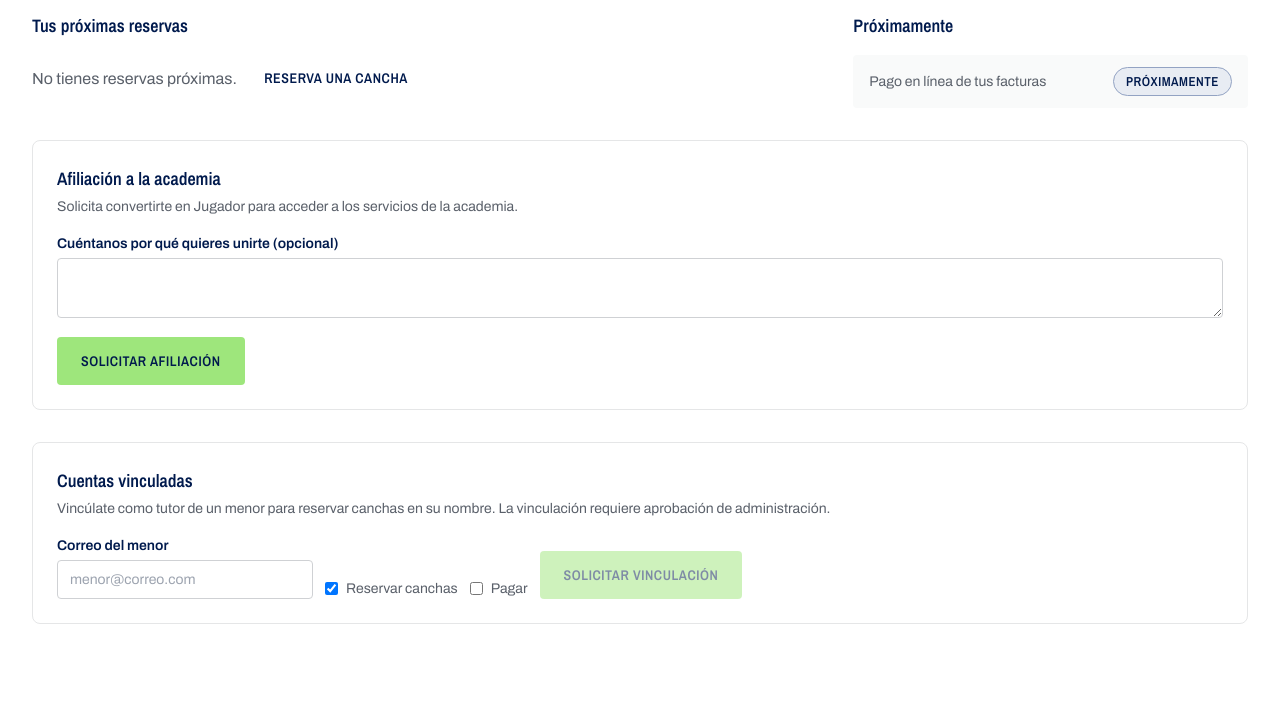
Test case: MyCtcjPage › can request a guardianship link and see it listed
(page scrolled)
Expected: the heading "Cuentas vinculadas" is shown, left=57, top=468, right=193, bottom=493
Step 1. Type "hijo@example.com" into the field labelled "Correo del menor" → (185, 580), box left=57, top=560, right=313, bottom=599
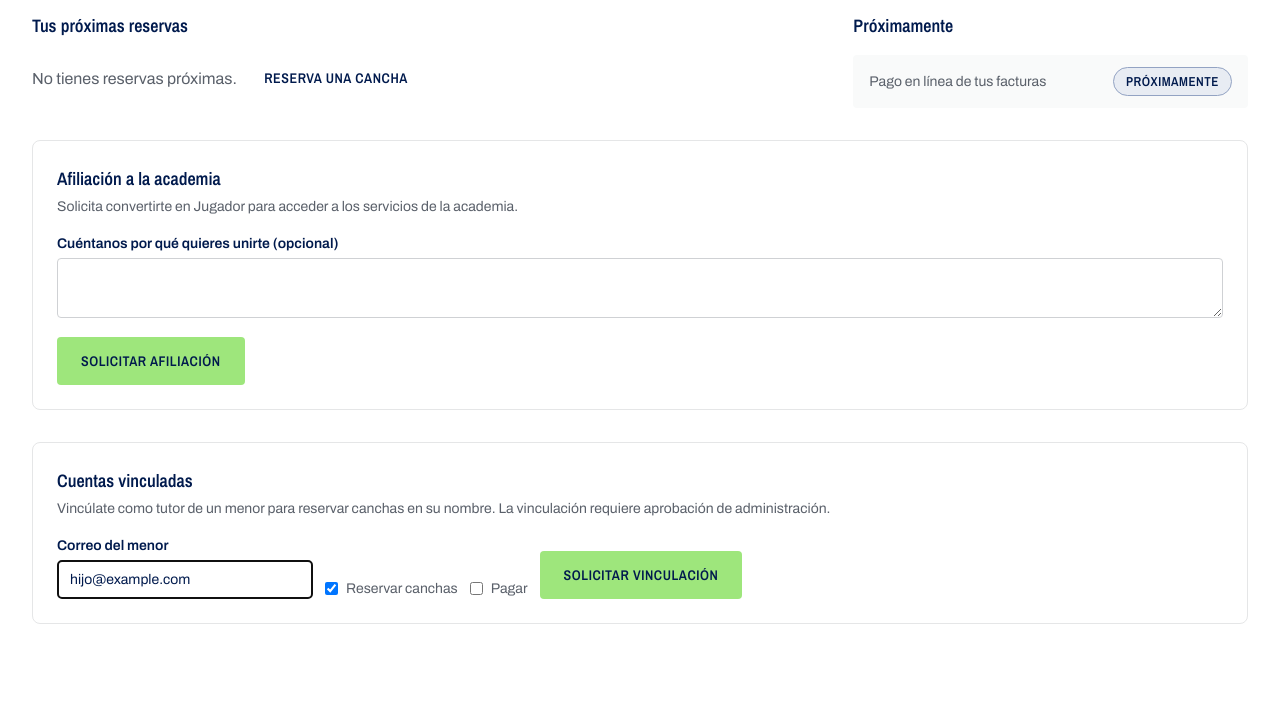
Step 2. Click the button "Solicitar vinculación" → (641, 575), box left=540, top=551, right=742, bottom=599
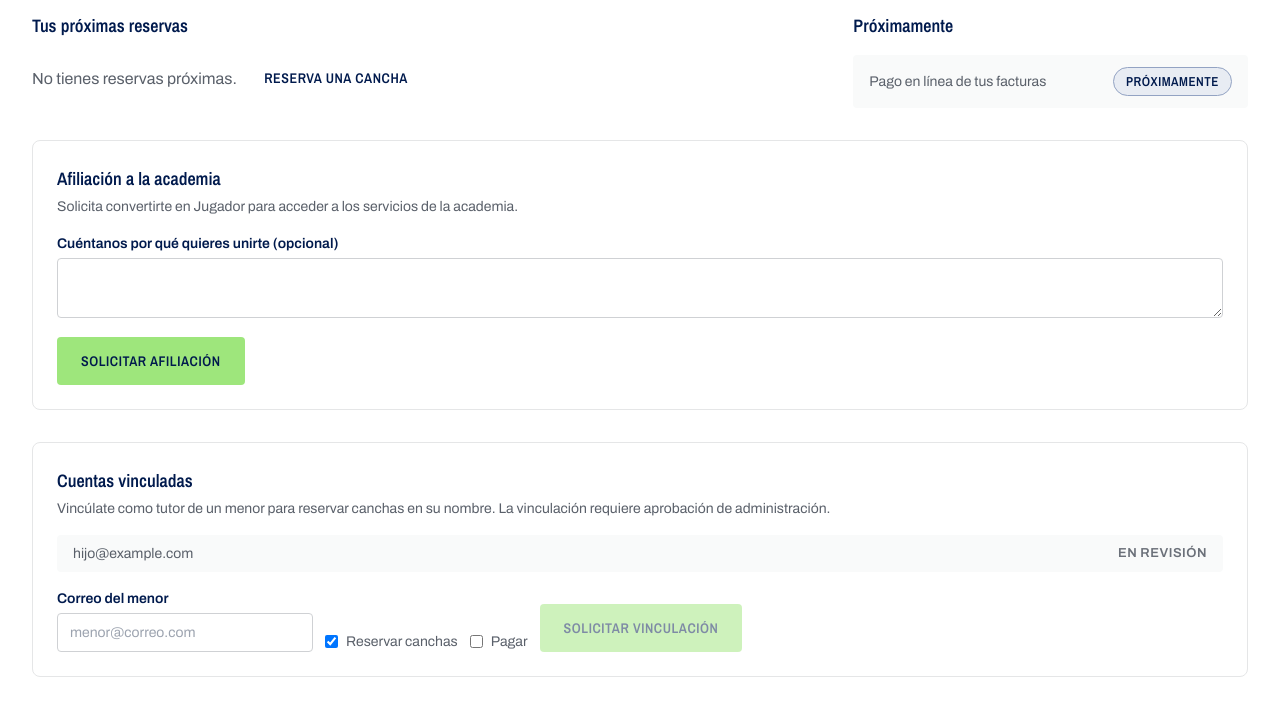
Now the text "hijo@example.com" is shown, box left=73, top=543, right=193, bottom=564
